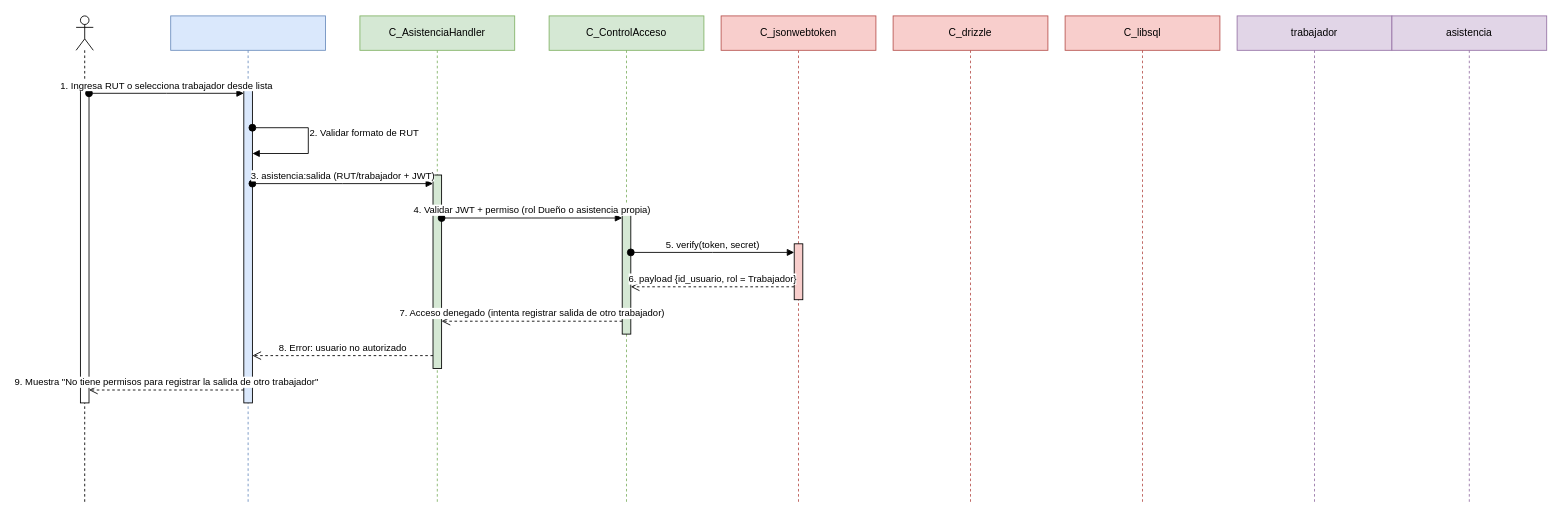
Image size: 1562x517. Some labels were removed from this diagram. The shapes that lost their labels are listed below. From the top down, each one's box as (x1, y1, x2, y2) in pixels, then its label:
(75, 15, 93, 502): Trabajador (no autorizado)
(170, 15, 326, 502): V_RegistrarSalidaView
